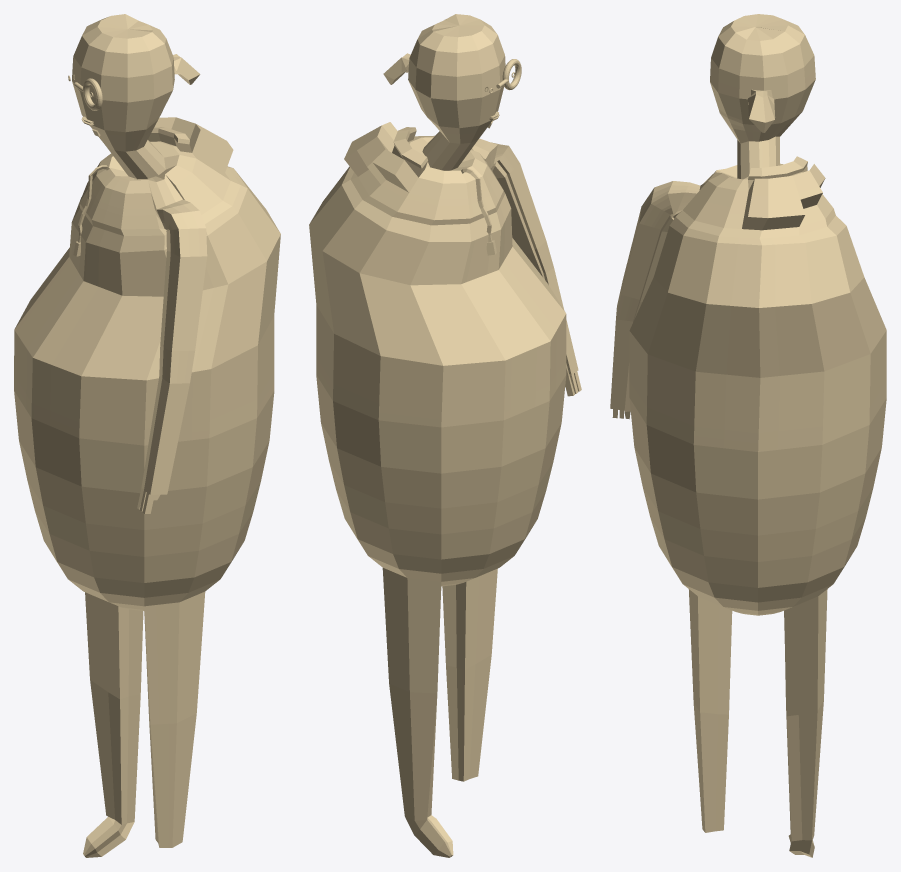
File: csmajor.glb
3 renders of one model, left to right at view 1: azimuth 30°, elevation 25°; view 2: azimuth 150°, elevation 25°; view 3: azimuth 270°, elevation 25°, orthographic. The views are drawn at different scales.
Visible parts, largest first — view 1: Character.002; view 2: Character.002; view 3: Character.002.
Boxes of the visible parts, x1,y1,x2,y2 form: Character.002: (14,14,280,857); Character.002: (309,14,581,857); Character.002: (610,14,886,857).
Bounding box in the file's own units: 2.09 × 7.15 × 2.15.
